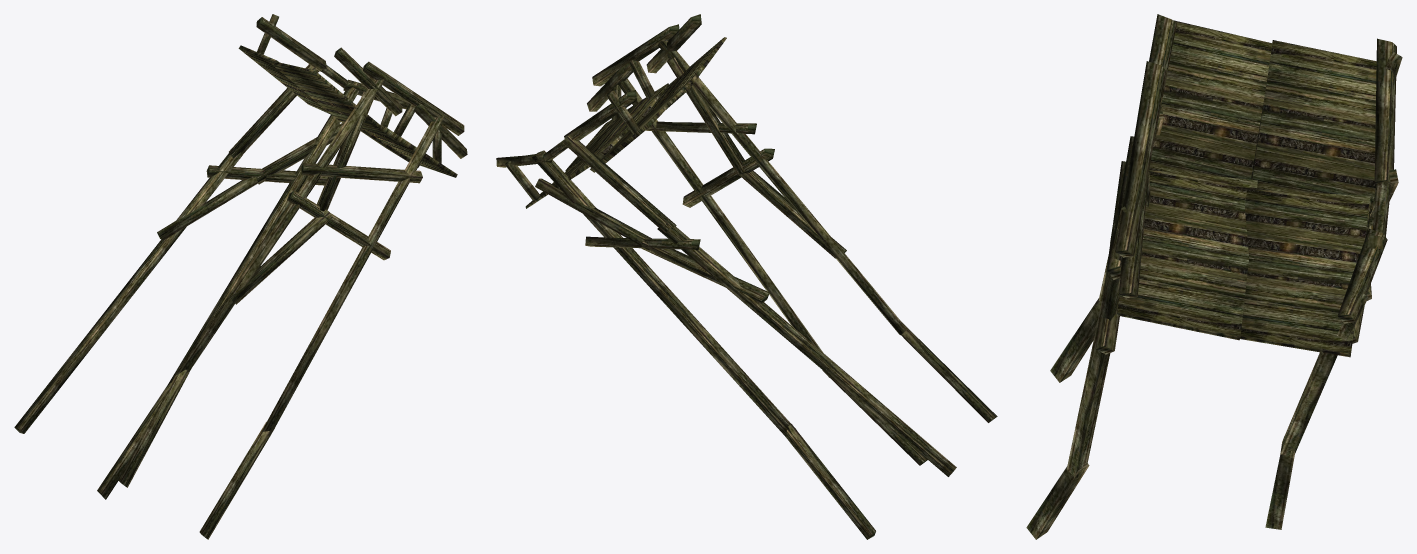
Rendered from PC_BRIDGE_3.glb.
The picture shows the model from 3 angles, left to right: view 1: azimuth 30°, elevation 25°; view 2: azimuth 150°, elevation 25°; view 3: azimuth 270°, elevation 25°; orthographic projection. The views are drawn at different scales.
Visible parts, largest first — view 1: Mesh; view 2: Mesh; view 3: Mesh.
Part boxes in pixels (x1,y1,x2,y2): Mesh: (14,14,467,539); Mesh: (496,14,997,539); Mesh: (1026,14,1402,539).
Size of the model in its own units: 16.21 by 15.77 by 8.05.
1 material, 1 textured.
